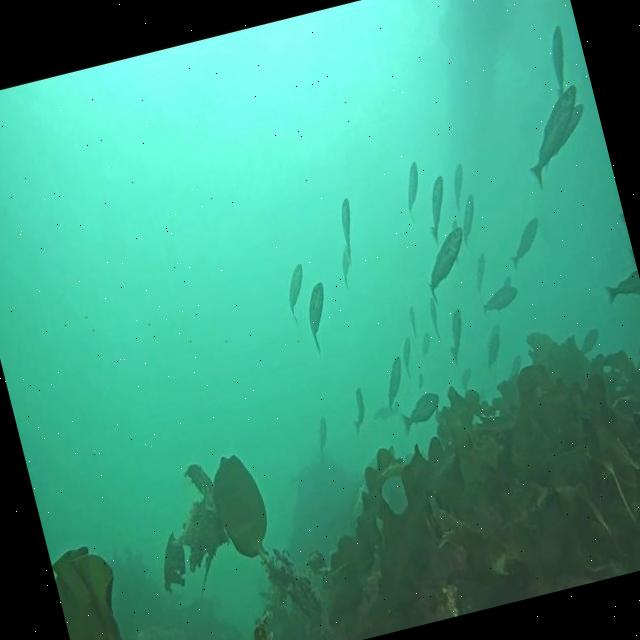fish: (512, 84, 598, 190), (416, 226, 476, 304), (538, 23, 576, 98), (300, 282, 339, 354), (419, 176, 456, 244), (501, 214, 548, 267), (396, 391, 446, 438), (278, 261, 314, 324), (396, 158, 428, 218), (378, 356, 411, 410), (440, 306, 470, 364), (334, 197, 361, 254), (598, 265, 640, 301), (454, 195, 484, 244), (479, 286, 522, 317), (466, 250, 494, 294), (346, 382, 370, 430), (446, 162, 472, 206), (334, 242, 358, 286), (481, 329, 505, 364), (426, 293, 444, 339), (398, 335, 416, 371), (314, 414, 331, 448), (416, 328, 434, 353), (373, 404, 398, 422), (457, 368, 474, 388), (407, 304, 418, 329), (414, 371, 426, 391)
